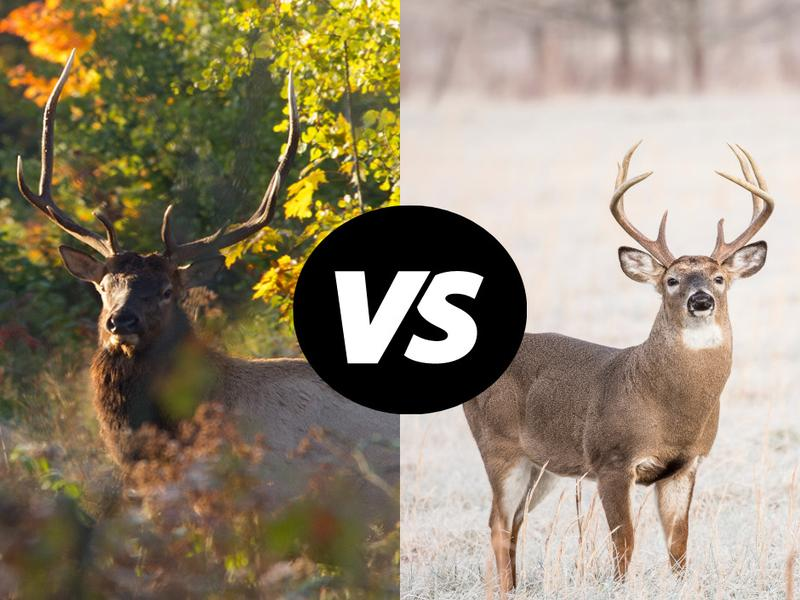elk: (28, 87, 399, 549), (457, 154, 769, 600)
